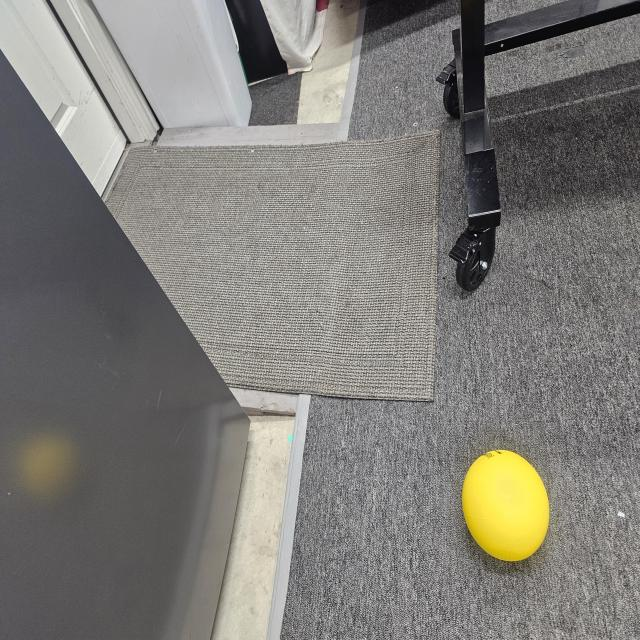Fuel: (458, 441, 553, 567)
